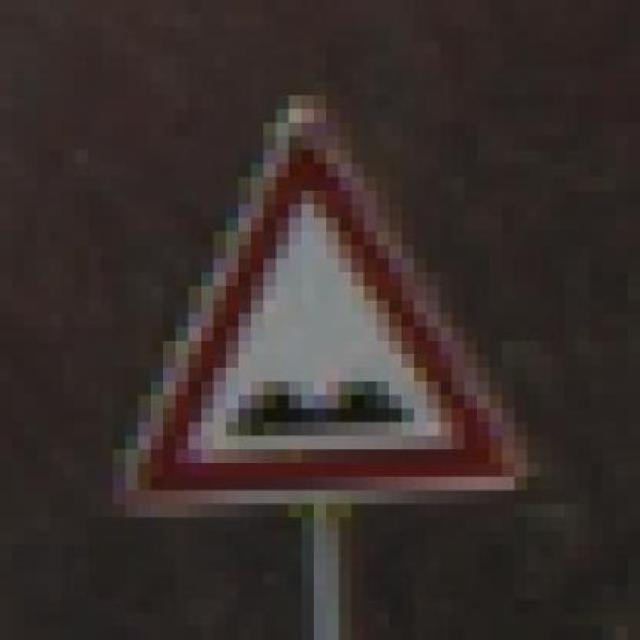Uneven Road: (112, 69, 540, 518)
